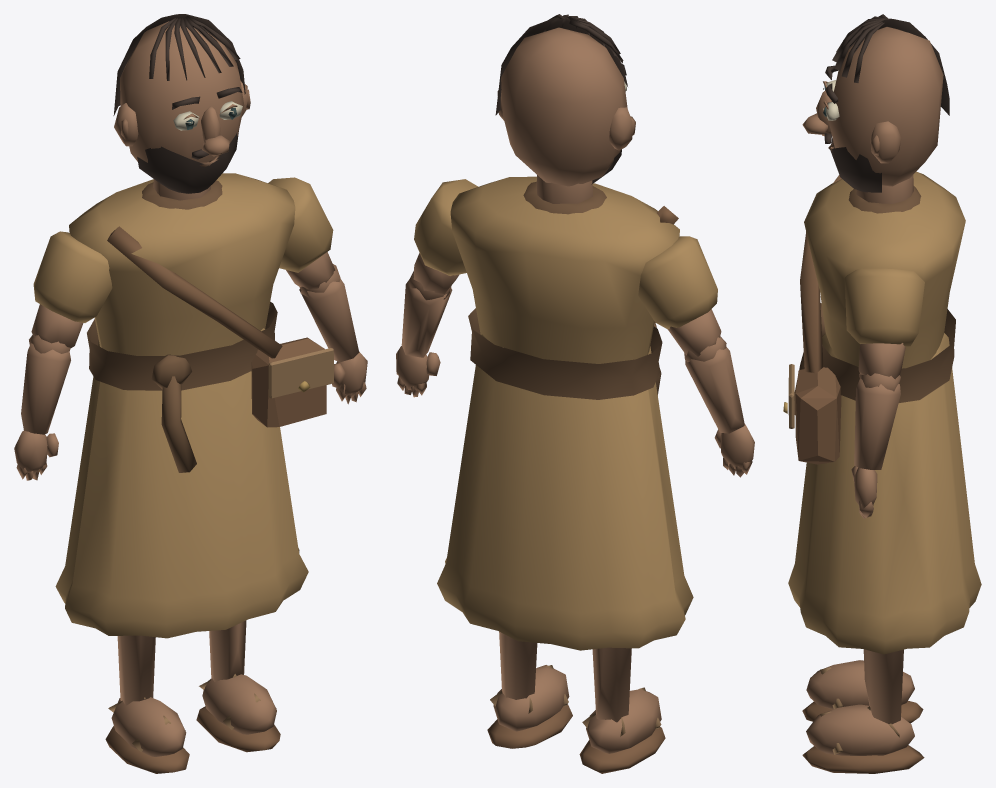
Rendered from citizen-ochre.glb.
3 renders of one model, left to right at view 1: azimuth 30°, elevation 25°; view 2: azimuth 150°, elevation 25°; view 3: azimuth 270°, elevation 25°, orthographic.
Parts seen in each view (by area): view 1: citizen-ochre__Visual_matte; view 2: citizen-ochre__Visual_matte; view 3: citizen-ochre__Visual_matte.
Boxes of the visible parts, <box> form: citizen-ochre__Visual_matte: <box>14,14,367,773</box>; citizen-ochre__Visual_matte: <box>396,14,754,773</box>; citizen-ochre__Visual_matte: <box>783,14,981,773</box>.
Bounding box in the file's own units: 0.967 × 1.91 × 0.4722.
